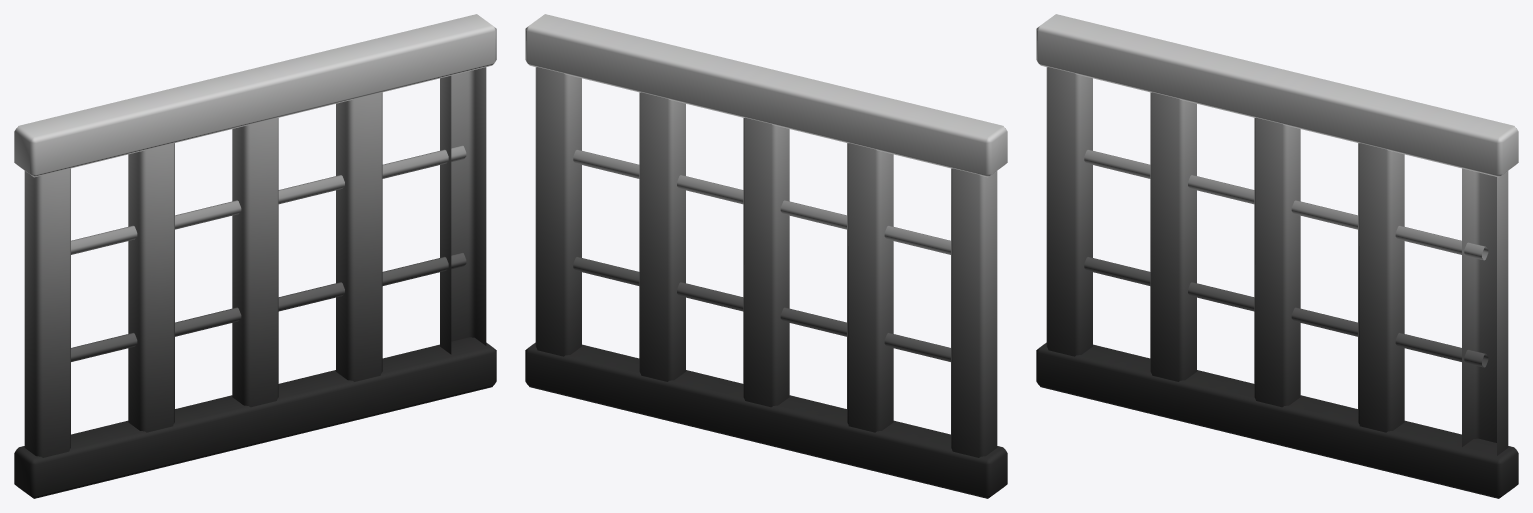
File: SM_Wood_Window_02.fbx
3 views of the same model, side by side, from view 1: azimuth 30°, elevation 25°; view 2: azimuth 150°, elevation 25°; view 3: azimuth 330°, elevation 25° (orthographic).
Parts seen in each view (by area): view 1: SM_Wood_Window_02; view 2: SM_Wood_Window_02; view 3: SM_Wood_Window_02.
Boxes of the visible parts, left/top/right/bottom form: SM_Wood_Window_02: left=14, top=14, right=496, bottom=498; SM_Wood_Window_02: left=525, top=14, right=1007, bottom=498; SM_Wood_Window_02: left=1036, top=14, right=1518, bottom=498.
Bounding box in the file's own units: 1.24 × 0.9176 × 0.0931.
